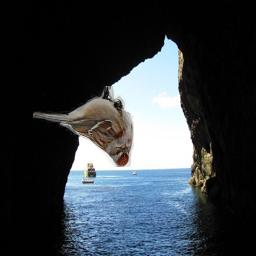Sparrow: (33, 86, 134, 167)
